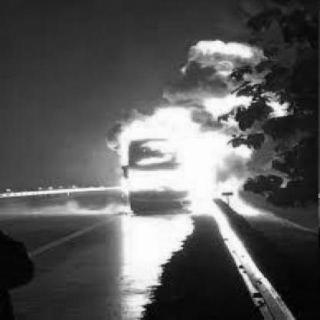Fire: (52, 31, 300, 229)
